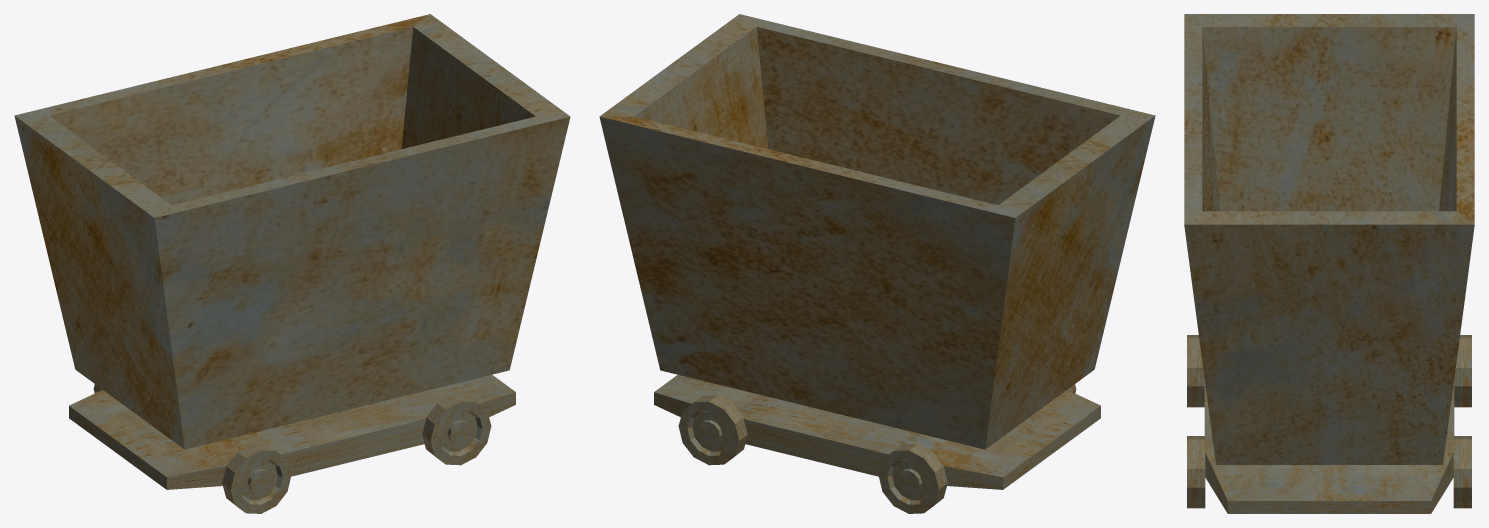
File: Minecart.fbx
3 renders of one model, left to right at view 1: azimuth 30°, elevation 25°; view 2: azimuth 150°, elevation 25°; view 3: azimuth 270°, elevation 25°, orthographic. The views are drawn at different scales.
Visible parts, largest first — view 1: Minecart, Suspension, Wheel.001, Wheel.002; view 2: Minecart, Suspension, Wheel, Wheel.003; view 3: Minecart, Suspension, Wheel.002, Wheel.003, Wheel, Wheel.001.
Boxes of the visible parts, x1=… form: Minecart: x1=14, y1=14, x2=570, y2=449; Suspension: x1=69, y1=375, x2=515, y2=489; Wheel.001: x1=222, y1=444, x2=291, y2=513; Wheel.002: x1=422, y1=395, x2=491, y2=465; Minecart: x1=599, y1=14, x2=1155, y2=449; Suspension: x1=654, y1=375, x2=1100, y2=489; Wheel: x1=878, y1=444, x2=947, y2=513; Wheel.003: x1=678, y1=395, x2=747, y2=465; Minecart: x1=1184, y1=14, x2=1474, y2=464; Suspension: x1=1204, y1=380, x2=1454, y2=513; Wheel.002: x1=1187, y1=436, x2=1205, y2=508; Wheel.003: x1=1453, y1=436, x2=1471, y2=508; Wheel: x1=1454, y1=335, x2=1471, y2=407; Wheel.001: x1=1187, y1=335, x2=1204, y2=407.
Bounding box in the file's own units: 137 × 102 × 80.
Materials: 1 (1 with a texture image).
